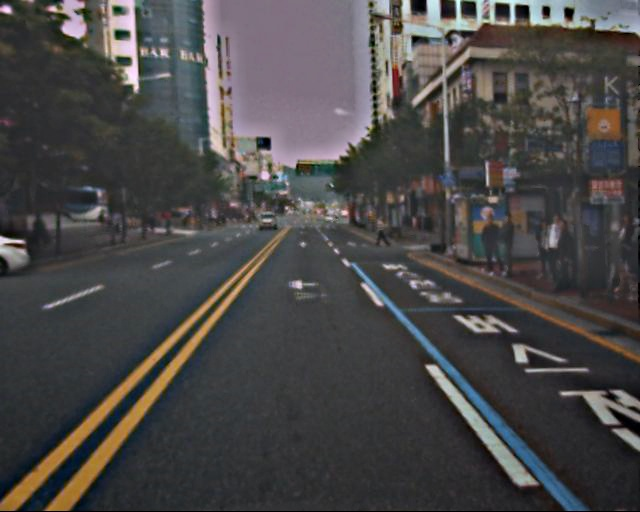person: (531, 217, 578, 291), (603, 215, 640, 298), (478, 212, 506, 278), (496, 210, 518, 279), (373, 212, 389, 250)
